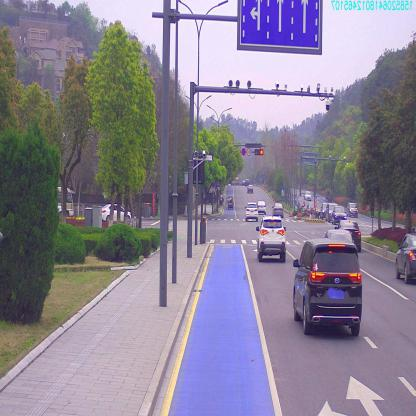traffic-light: (254, 147, 264, 158)
